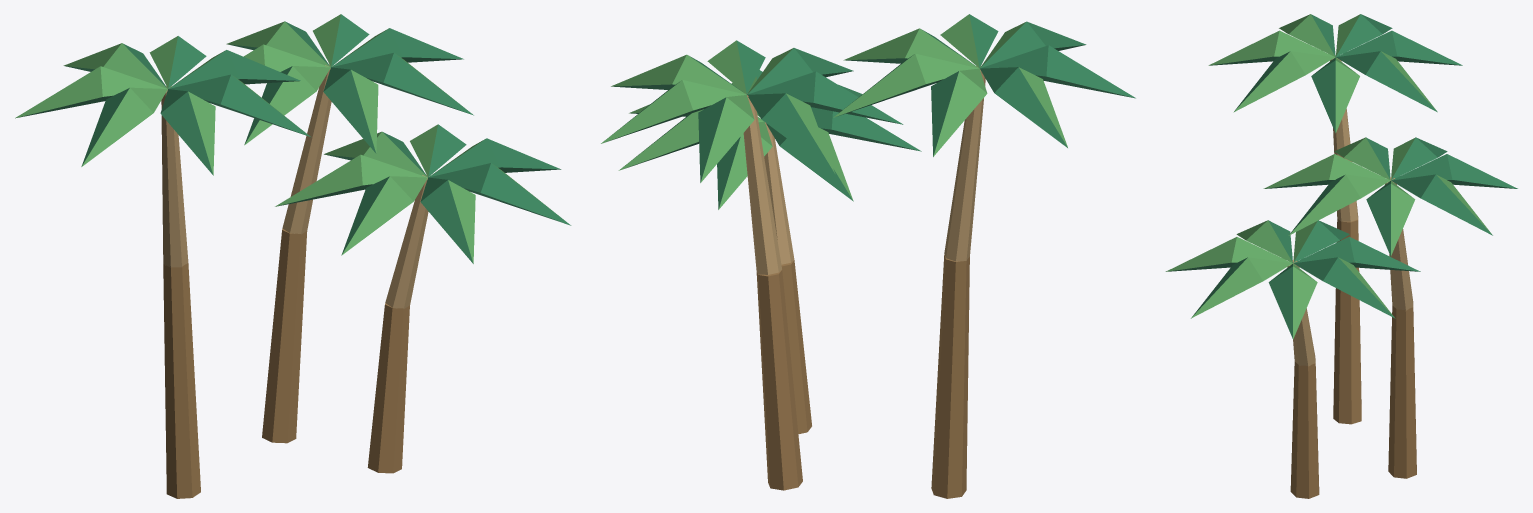
The model's file is palm-cluster.glb.
3 views of the same model, side by side, from view 1: azimuth 30°, elevation 25°; view 2: azimuth 150°, elevation 25°; view 3: azimuth 270°, elevation 25° (orthographic). The views are drawn at different scales.
Parts seen in each view (by area): view 1: palm-cluster; view 2: palm-cluster; view 3: palm-cluster.
Part boxes in pixels (<box>): palm-cluster: <box>15,14,571,498</box>; palm-cluster: <box>601,14,1135,498</box>; palm-cluster: <box>1165,14,1517,498</box>.
Bounding box in the file's own units: 9.59 × 8.24 × 7.06.
